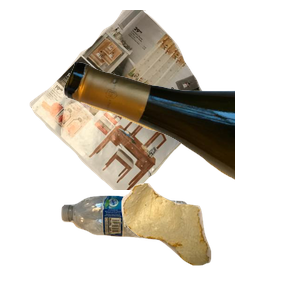glass: (60, 59, 300, 231)
paper: (27, 10, 230, 190)
plastic: (59, 193, 241, 300)
trash: (119, 181, 300, 300)
